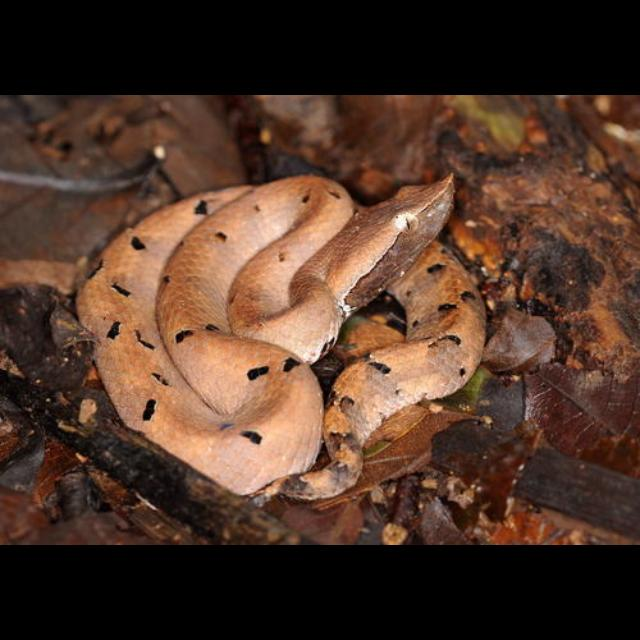snake: (78, 171, 492, 505)
